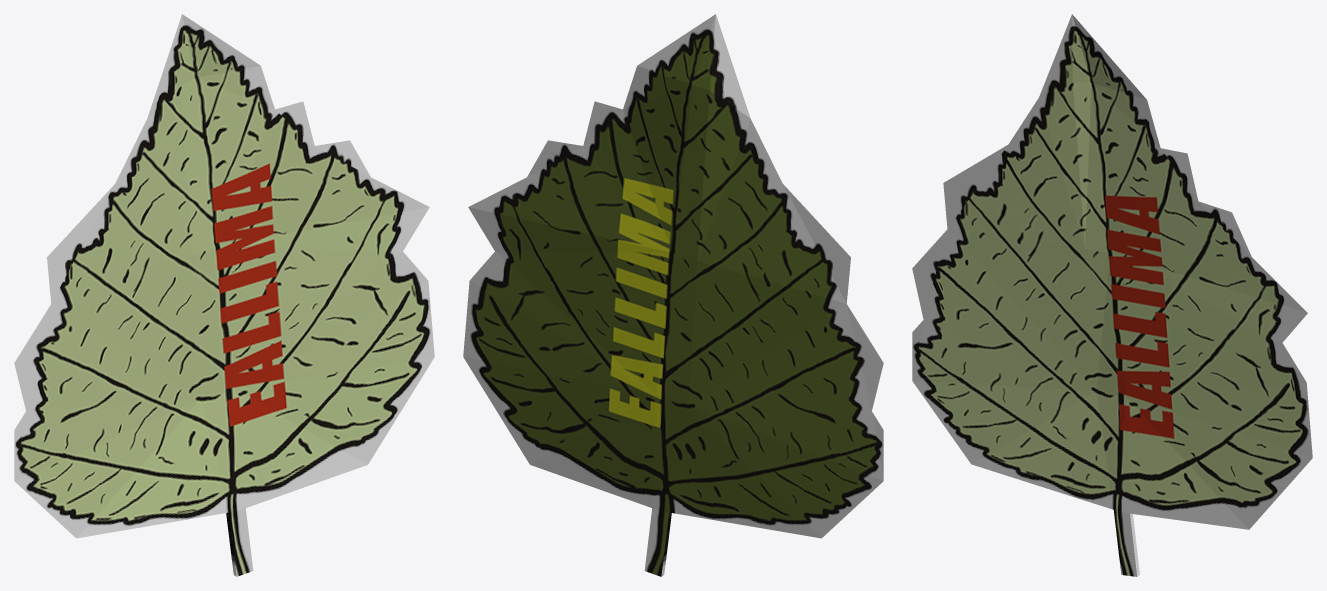
The model's file is leafpassword.dae.
3 views of the same model, side by side, from view 1: azimuth 30°, elevation 25°; view 2: azimuth 150°, elevation 25°; view 3: azimuth 330°, elevation 25° (orthographic). The views are drawn at different scales.
Parts seen in each view (by area): view 1: Plane-039; view 2: Plane-039; view 3: Plane-039.
Boxes of the visible parts, <box> form: Plane-039: <box>14,14,434,576</box>; Plane-039: <box>463,14,883,576</box>; Plane-039: <box>912,14,1312,576</box>.
Size of the model in its own units: 0.3032 by 0.396 by 0.00976.
Materials: 1 (1 with a texture image).
